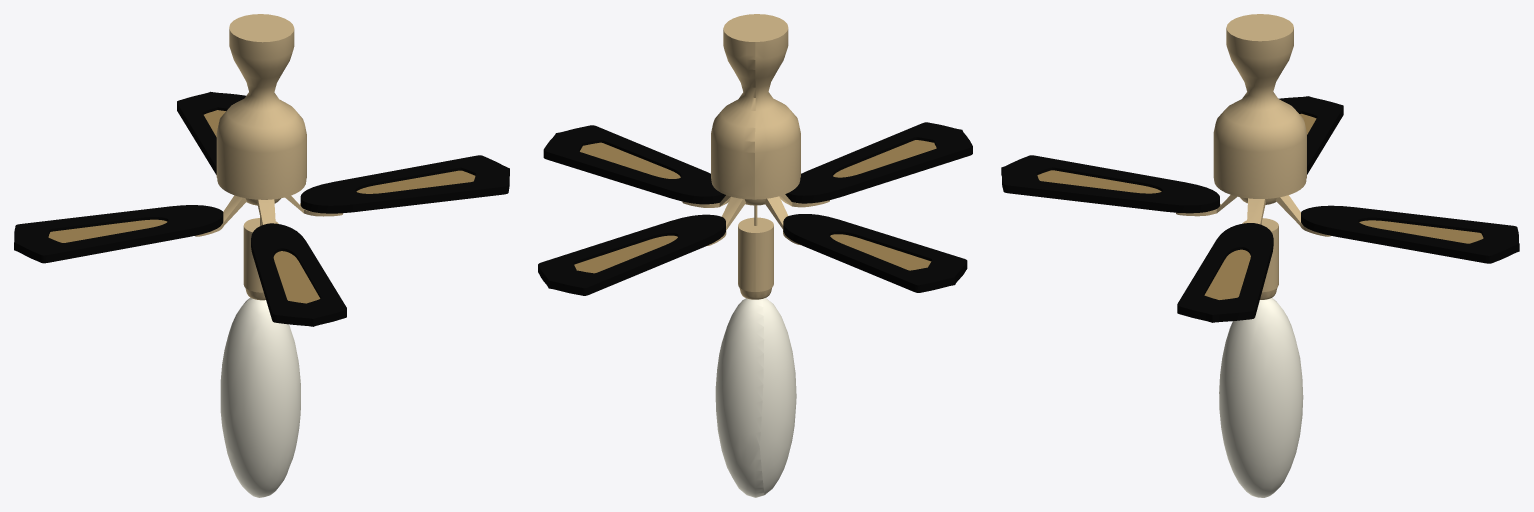
File: sh-contrib-ceiling-fan.glb
3 views of the same model, side by side, from view 1: azimuth 30°, elevation 25°; view 2: azimuth 150°, elevation 25°; view 3: azimuth 270°, elevation 25° (orthographic).
Visible parts, largest first — view 1: CeilingFan5028_2_2, CeilingFan_1_1, CeilingFan6900_4_4, CeilingFan6820_3_3; view 2: CeilingFan5028_2_2, CeilingFan_1_1, CeilingFan6900_4_4, CeilingFan6820_3_3; view 3: CeilingFan5028_2_2, CeilingFan_1_1, CeilingFan6900_4_4, CeilingFan6820_3_3.
Boxes of the visible parts, box(x1,y1,x2,y2) form: CeilingFan5028_2_2: box(14, 91, 509, 326); CeilingFan_1_1: box(195, 14, 342, 300); CeilingFan6900_4_4: box(220, 297, 300, 497); CeilingFan6820_3_3: box(48, 110, 475, 303); CeilingFan5028_2_2: box(538, 122, 972, 295); CeilingFan_1_1: box(682, 14, 829, 299); CeilingFan6900_4_4: box(715, 298, 796, 497); CeilingFan6820_3_3: box(574, 140, 936, 273); CeilingFan5028_2_2: box(1001, 96, 1519, 322); CeilingFan_1_1: box(1176, 14, 1330, 299); CeilingFan6900_4_4: box(1219, 298, 1303, 497); CeilingFan6820_3_3: box(1037, 113, 1483, 299).
Bounding box in the file's own units: 1 × 1 × 1.
